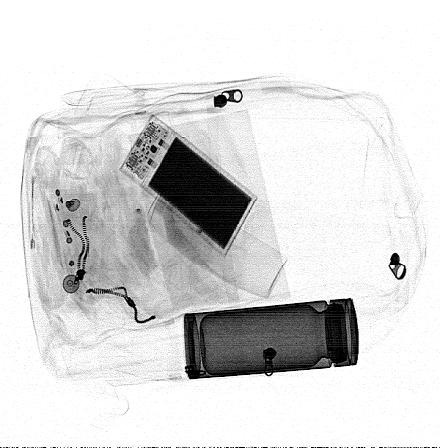Powerbank: (119, 114, 258, 259)
